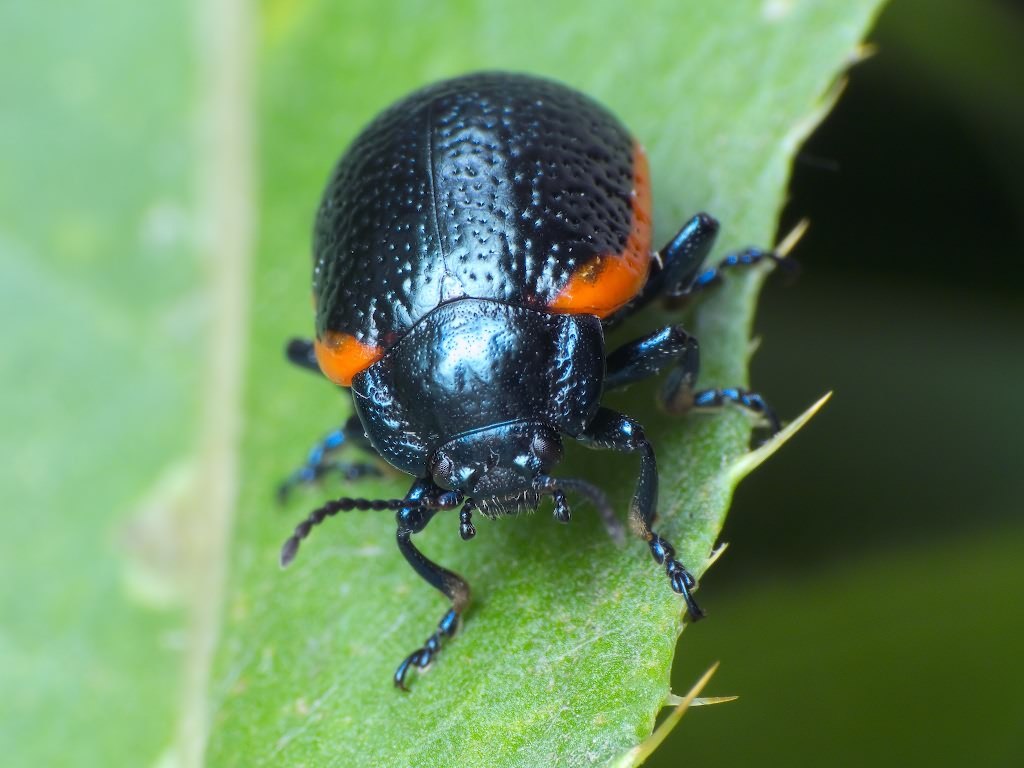Chrysolina_gypsophila: (263, 62, 787, 693)
